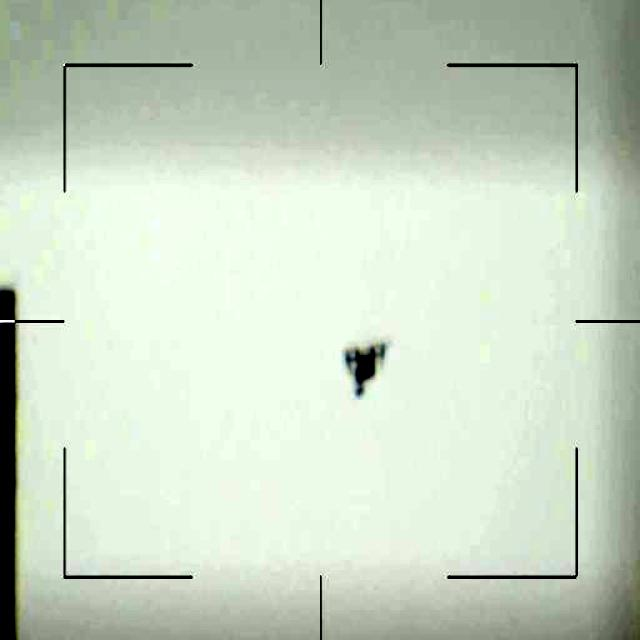bird: (341, 334, 396, 401)
